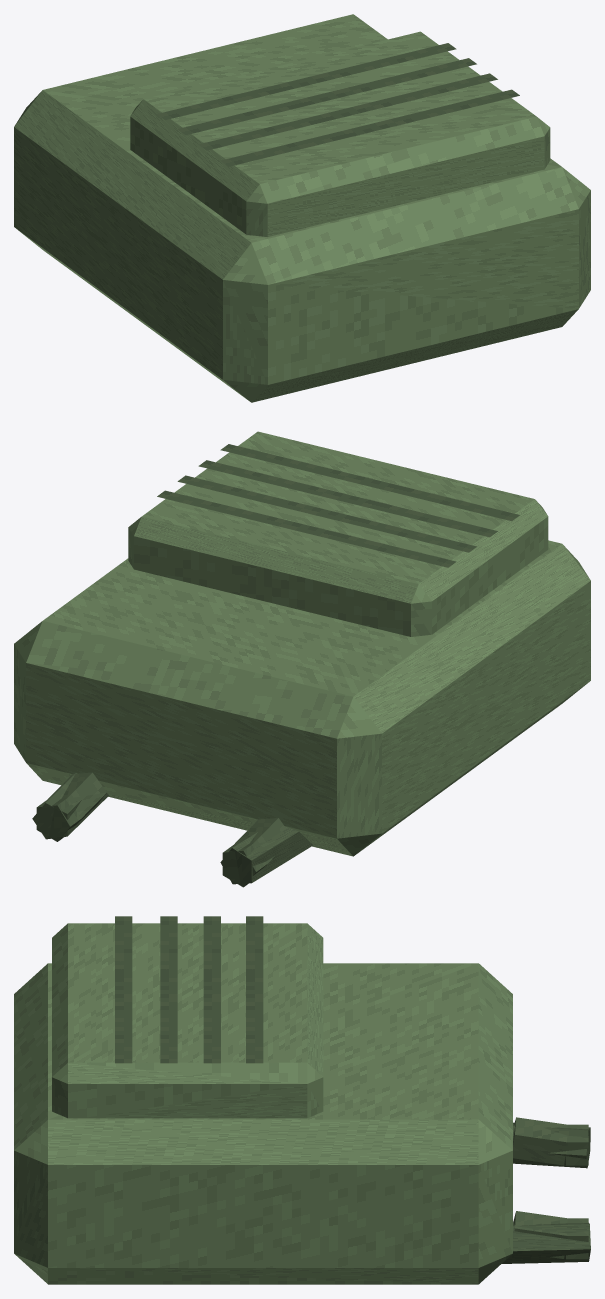
The model's file is molle_large_rucksack.glb.
The picture shows the model from 3 angles, top to bottom: view 1: azimuth 30°, elevation 25°; view 2: azimuth 150°, elevation 25°; view 3: azimuth 270°, elevation 25°; orthographic projection. The views are drawn at different scales.
Visible parts, largest first — view 1: block_soft-sided bag, block_front compartment, block_horizontal load-webbing row (×4); view 2: block_soft-sided bag, block_front compartment, block_horizontal load-webbing row (×4), block_webbing strap 2 (×2), block_webbing strap 0 (×2), block_webbing strap 1 (×2); view 3: block_soft-sided bag, block_front compartment, block_horizontal load-webbing row (×4), block_webbing strap 2 (×2), block_webbing strap 0 (×2), block_webbing strap 1.
Boxes of the visible parts, <box> form: block_soft-sided bag: <box>14,14,590,402</box>; block_front compartment: <box>130,31,550,236</box>; block_horizontal load-webbing row (×4): <box>157,43,519,166</box>; block_soft-sided bag: <box>14,540,590,856</box>; block_front compartment: <box>128,431,548,636</box>; block_horizontal load-webbing row (×4): <box>157,444,519,567</box>; block_webbing strap 2 (×2): <box>32,773,313,884</box>; block_webbing strap 0 (×2): <box>47,772,286,865</box>; block_webbing strap 1 (×2): <box>36,798,266,887</box>; block_soft-sided bag: <box>14,963,512,1284</box>; block_front compartment: <box>52,923,323,1118</box>; block_horizontal load-webbing row (×4): <box>115,916,263,1063</box>; block_webbing strap 2 (×2): <box>502,1122,590,1263</box>; block_webbing strap 0 (×2): <box>513,1117,567,1258</box>; block_webbing strap 1: <box>566,1124,588,1165</box>.
Bounding box in the file's own units: 0.3564 × 0.1995 × 0.4693.
Materials: 1 (1 with a texture image).
